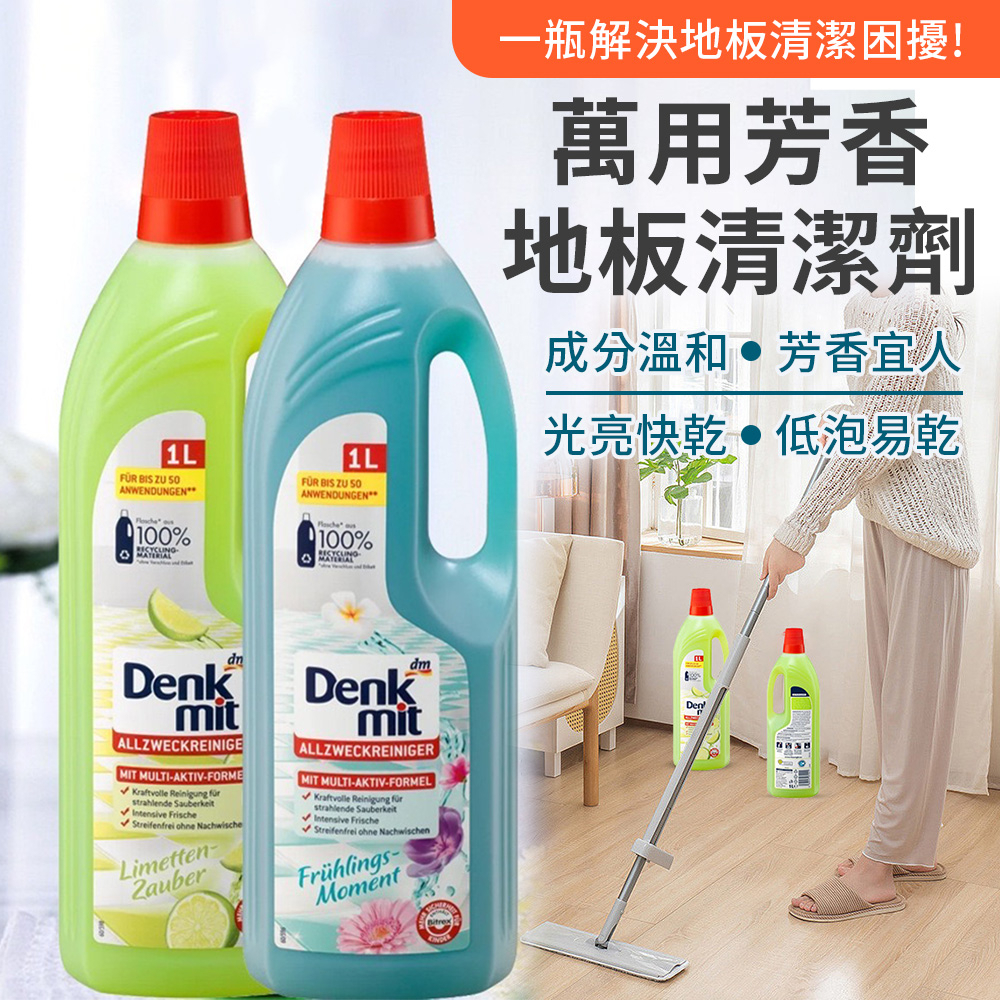cleaner: (232, 96, 522, 999), (42, 98, 293, 995), (671, 584, 733, 777), (760, 625, 823, 808)
